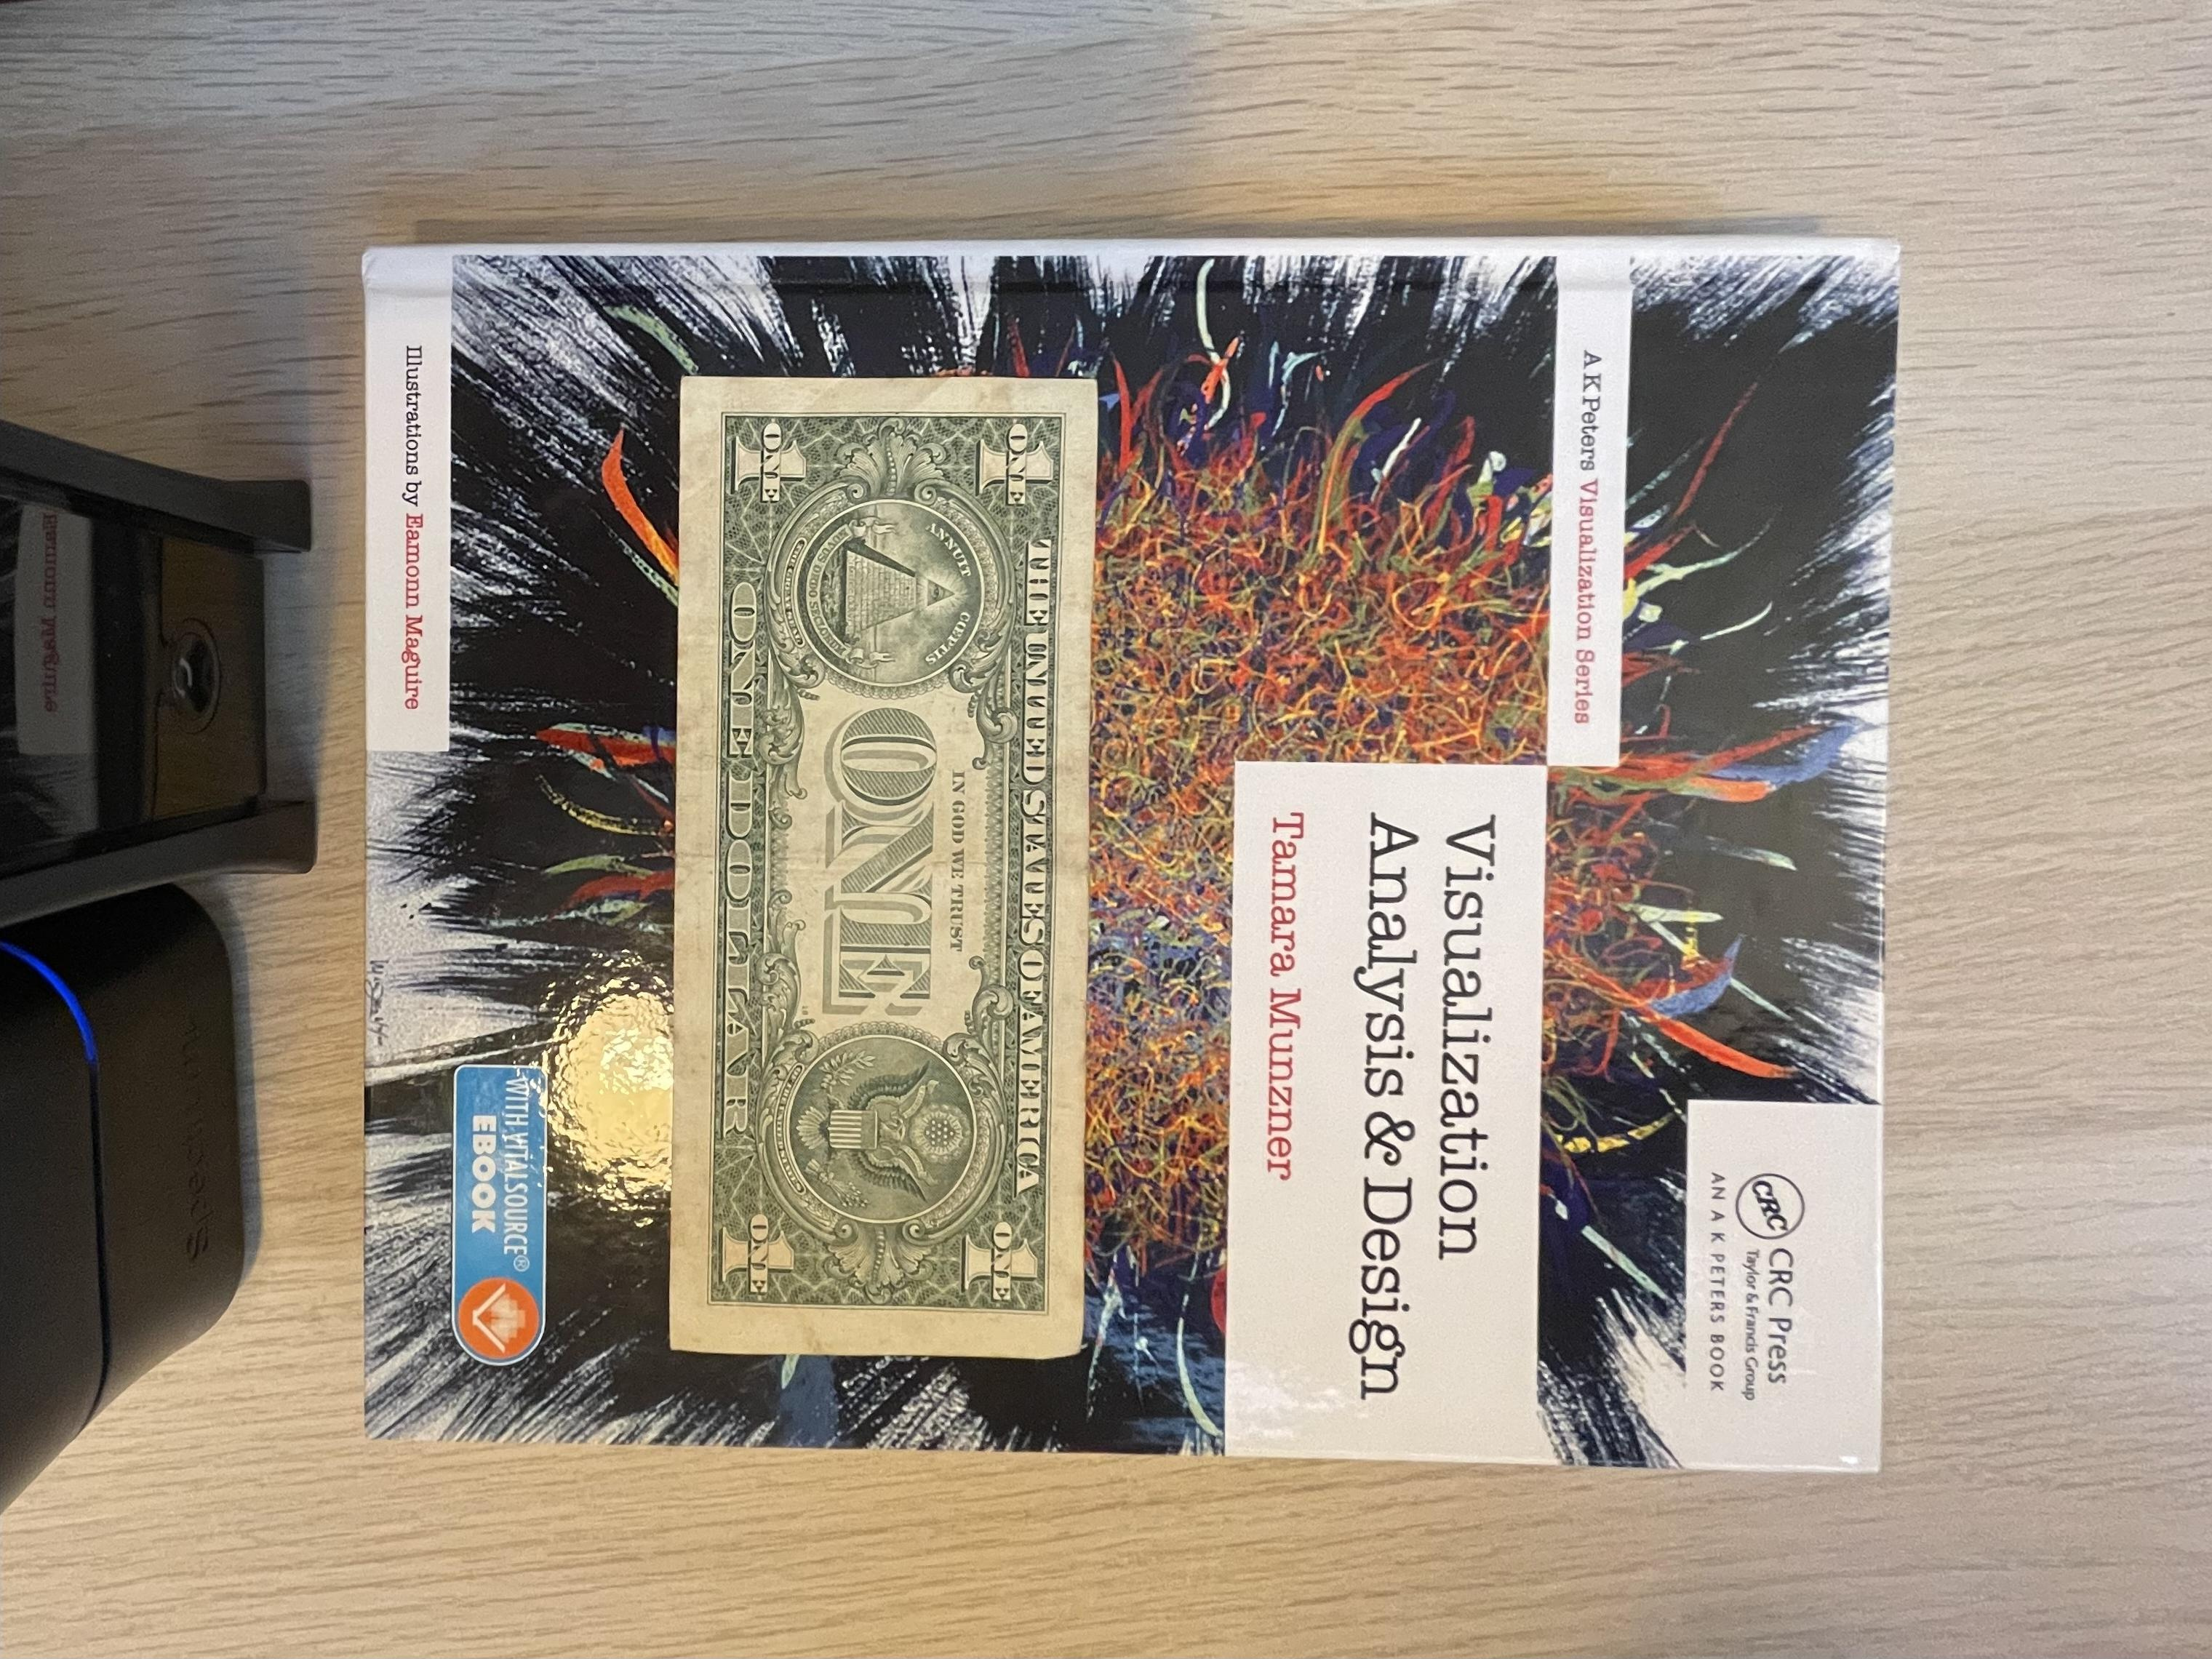OneBill: (668, 375, 1098, 1361)
